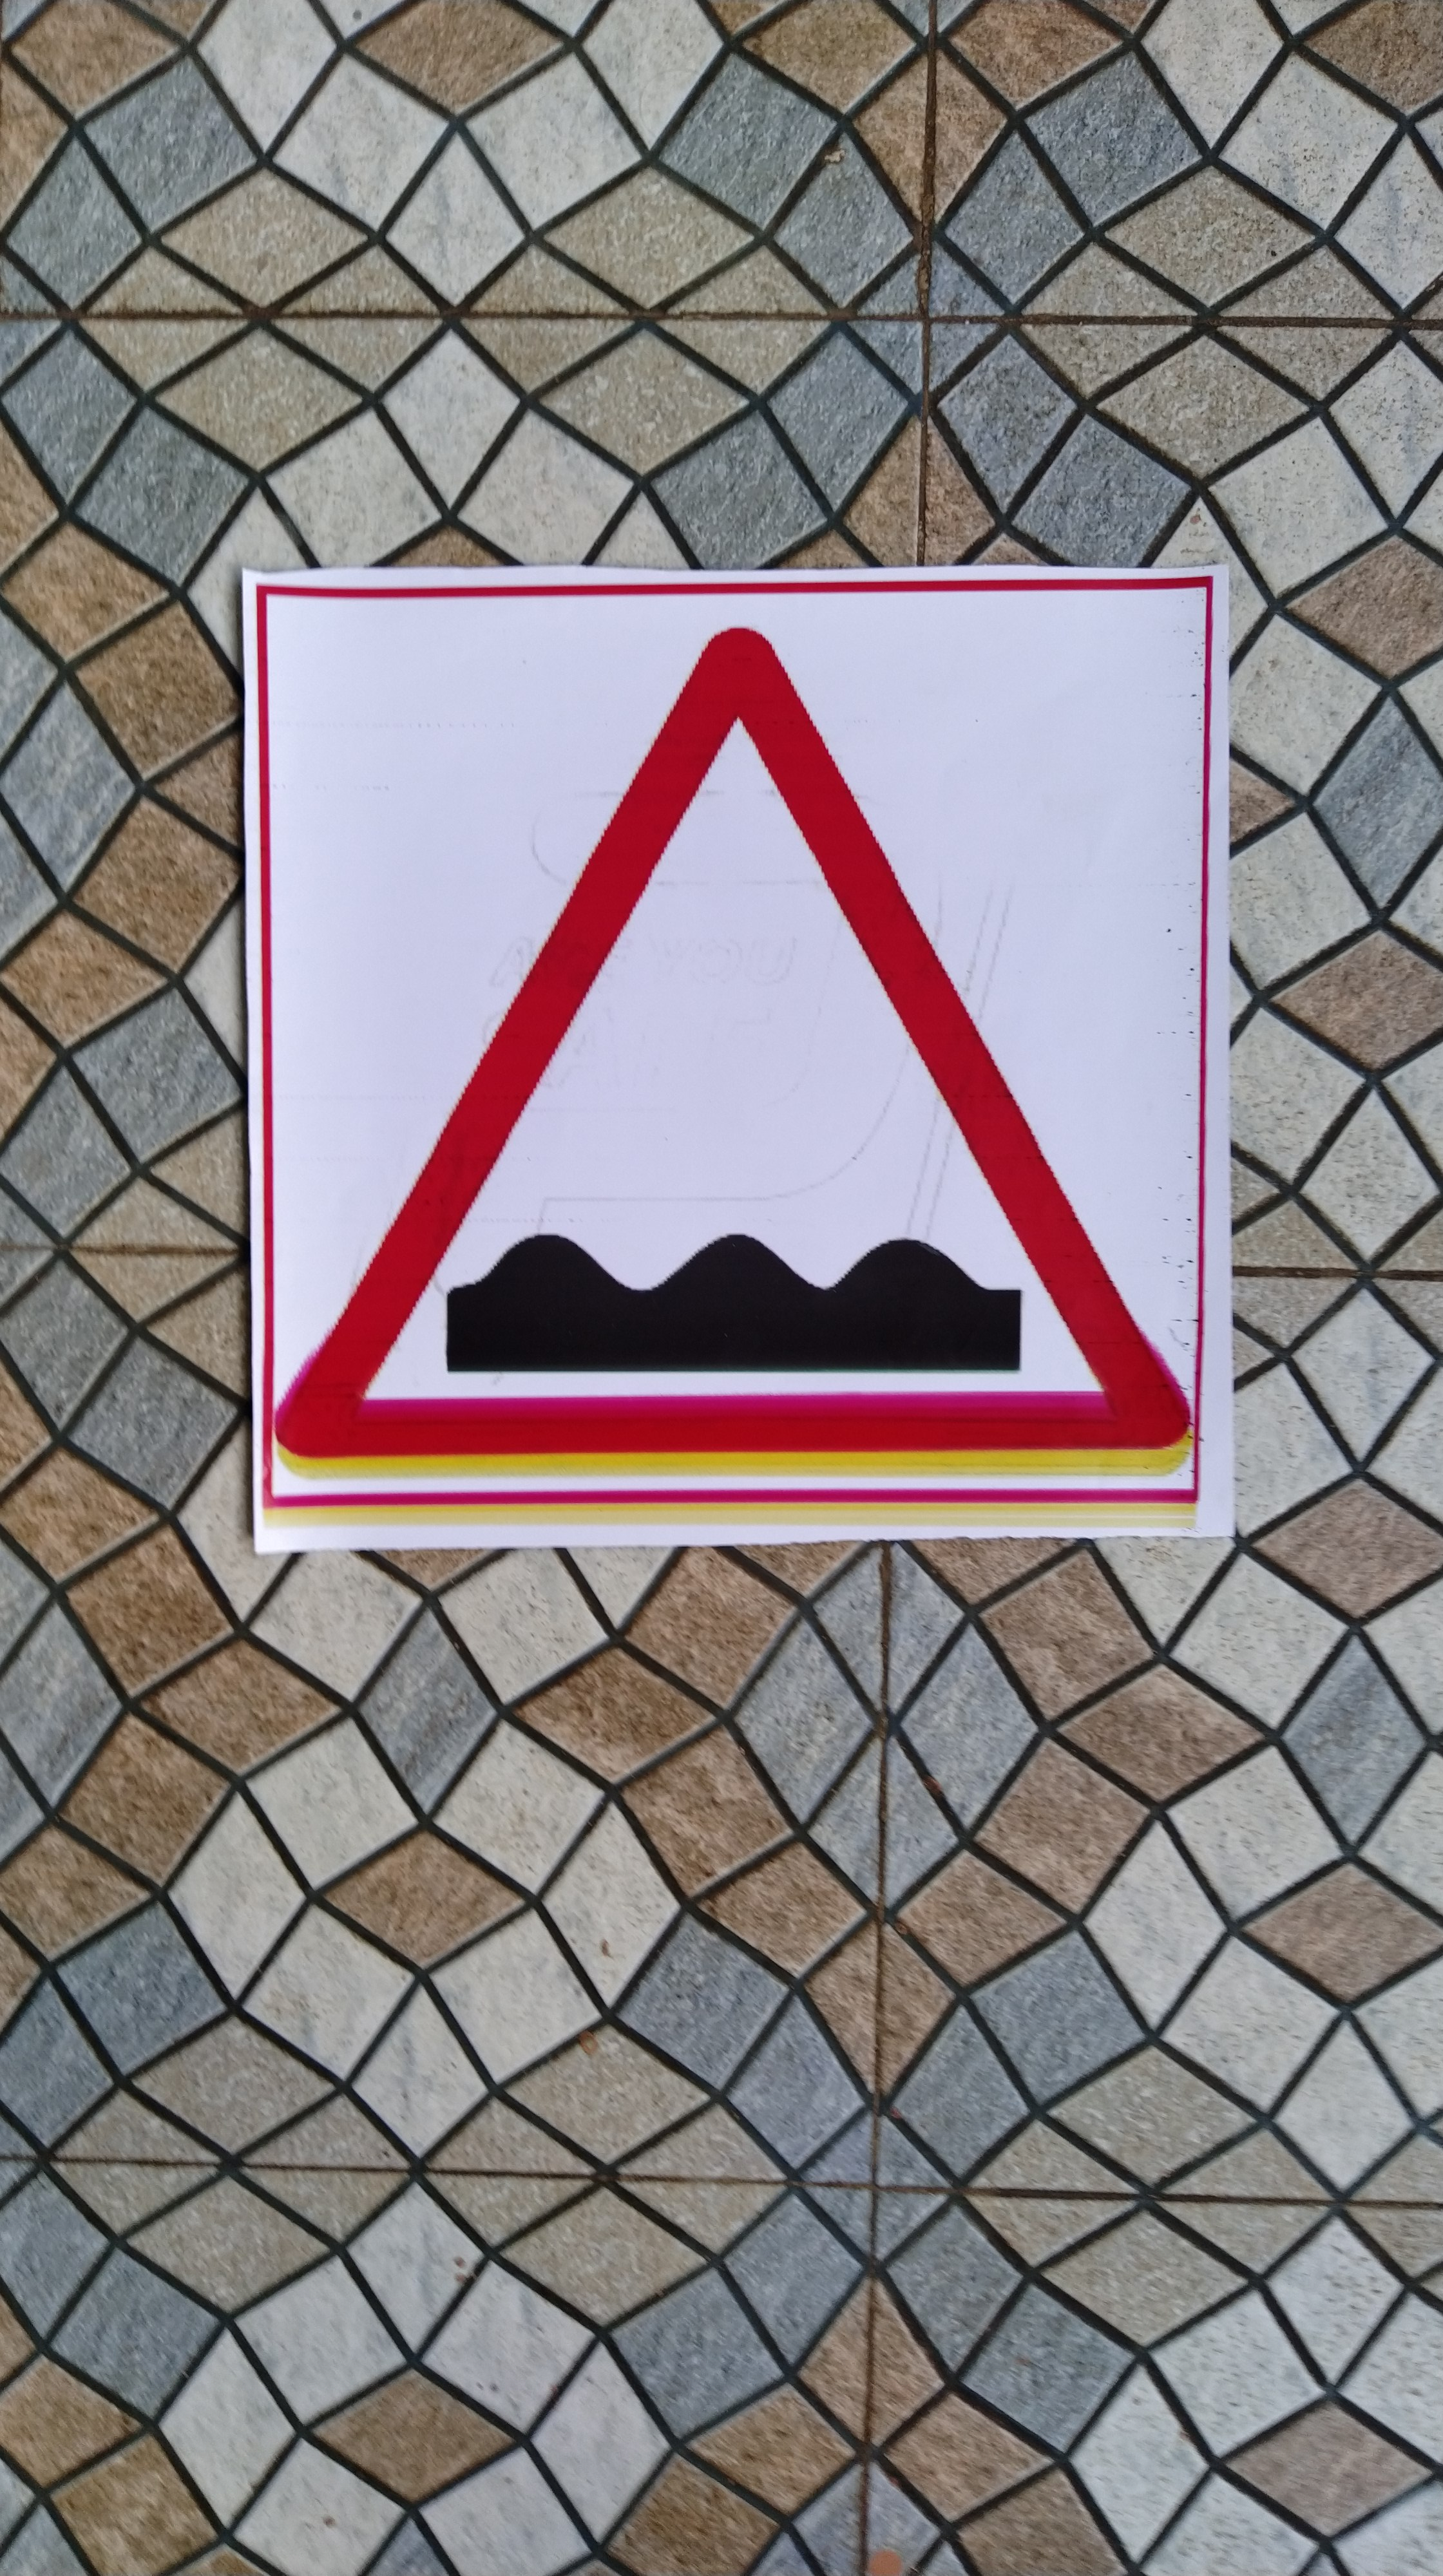speed breaker: (241, 582, 1231, 1539)
